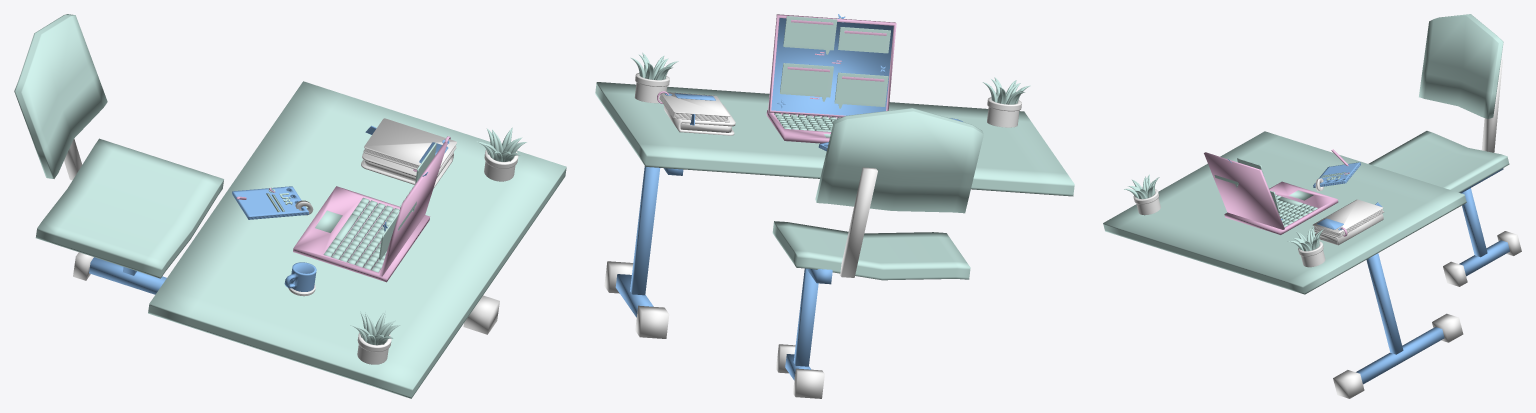
The picture shows the model from 3 angles, left to right: view 1: azimuth 30°, elevation 25°; view 2: azimuth 150°, elevation 25°; view 3: azimuth 270°, elevation 25°; orthographic projection. The views are drawn at different scales.
Parts seen in each view (by area): view 1: Plane.059, Plane.062, Plane.064, Plane.065, Plane.066, Plane.072, Plane.067, Plane.061, Plane.077, Plane.060, Cube.081, Circle.025 (+2 smaller); view 2: Plane.059, Plane.064, Plane.062, Plane.067, Plane.060, Plane.061, Plane.063, Cube.089, Cube.083, Cube.087, Cube.085, Plane.072 (+5 smaller); view 3: Plane.059, Plane.064, Plane.062, Plane.060, Plane.067, Plane.061, Plane.065, Plane.072, Plane.066, Plane.063, Plane.077, Cube.081 (+2 smaller).
Part boxes in pixels (left/top/right/bottom): Plane.059: left=148, top=81, right=566, bottom=398; Plane.062: left=35, top=138, right=223, bottom=278; Plane.064: left=14, top=14, right=107, bottom=178; Plane.065: left=293, top=186, right=430, bottom=282; Plane.066: left=323, top=197, right=399, bottom=272; Plane.072: left=364, top=118, right=456, bottom=167; Plane.067: left=379, top=142, right=447, bottom=276; Plane.061: left=73, top=252, right=166, bottom=294; Plane.077: left=232, top=186, right=308, bottom=217; Plane.060: left=463, top=295, right=499, bottom=334; Cube.081: left=361, top=152, right=453, bottom=187; Circle.025: left=284, top=262, right=316, bottom=291; Plane.059: left=595, top=82, right=1074, bottom=196; Plane.064: left=815, top=108, right=983, bottom=213; Plane.062: left=772, top=221, right=970, bottom=280; Plane.067: left=768, top=14, right=896, bottom=117; Plane.060: left=604, top=166, right=683, bottom=338; Plane.061: left=776, top=268, right=832, bottom=398; Plane.063: left=839, top=167, right=877, bottom=277; Cube.089: left=783, top=16, right=837, bottom=54; Cube.083: left=779, top=63, right=833, bottom=101; Cube.087: left=834, top=72, right=888, bottom=108; Cube.085: left=838, top=27, right=890, bottom=53; Plane.072: left=661, top=92, right=730, bottom=116; Plane.059: left=1103, top=131, right=1466, bottom=294; Plane.064: left=1419, top=14, right=1503, bottom=118; Plane.062: left=1368, top=131, right=1509, bottom=192; Plane.060: left=1333, top=253, right=1463, bottom=398; Plane.067: left=1204, top=152, right=1284, bottom=229; Plane.061: left=1443, top=168, right=1521, bottom=286; Plane.065: left=1224, top=181, right=1338, bottom=234; Plane.072: left=1312, top=199, right=1383, bottom=233; Plane.066: left=1275, top=195, right=1317, bottom=227; Plane.063: left=1481, top=59, right=1502, bottom=152; Plane.077: left=1313, top=162, right=1360, bottom=185; Cube.081: left=1312, top=214, right=1383, bottom=245.
Size of the model in its own units: 2.61 by 1.75 by 2.69.
